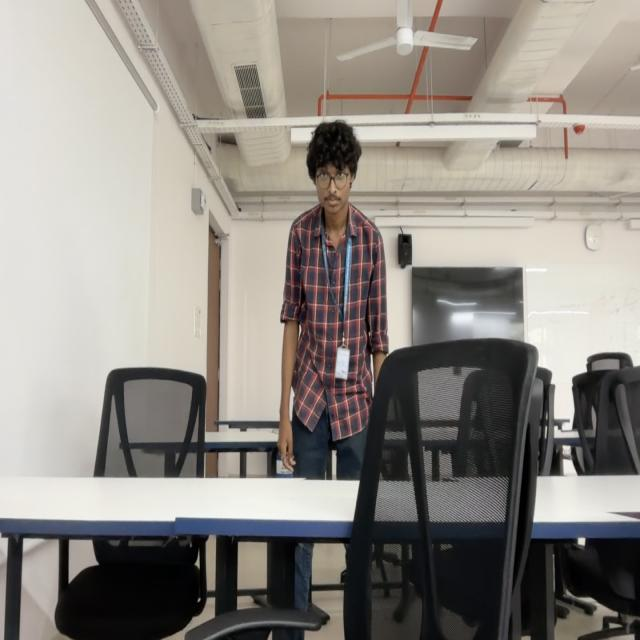darshan: (301, 119, 362, 218)
